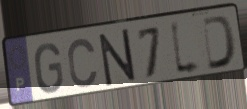7: (136, 24, 163, 80)
C: (66, 36, 100, 90)
D: (201, 13, 238, 72)
G: (33, 42, 65, 96)
L: (168, 17, 205, 79)
N: (97, 27, 138, 89)
